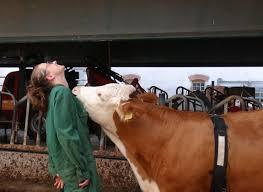cow: (72, 82, 263, 192)
